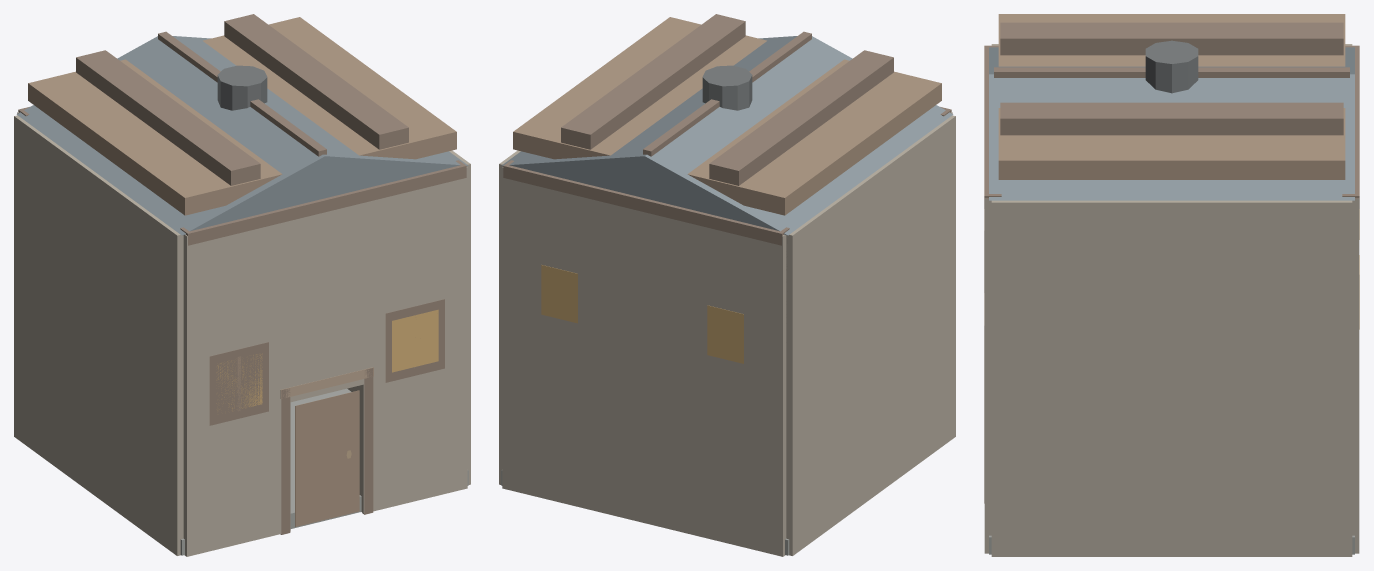
Rendered from gallows_watch_inhabited.glb.
3 renders of one model, left to right at view 1: azimuth 30°, elevation 25°; view 2: azimuth 150°, elevation 25°; view 3: azimuth 270°, elevation 25°, orthographic. The views are drawn at different scales.
Visible parts, largest first — view 1: gallows_watch_mat_01, gallows_watch_mat_04, gallows_watch_mat_02, gallows_watch_mat_07, gallows_watch_mat_06, gallows_watch_mat_10, gallows_watch_mat_00, gallows_watch_mat_03; view 2: gallows_watch_mat_01, gallows_watch_mat_04, gallows_watch_mat_02, gallows_watch_mat_07, gallows_watch_mat_06, gallows_watch_mat_10; view 3: gallows_watch_mat_01, gallows_watch_mat_02, gallows_watch_mat_04, gallows_watch_mat_07, gallows_watch_mat_10.
Part boxes in pixels (left/top/right/bottom): gallows_watch_mat_01: left=14, top=112, right=470, bottom=556; gallows_watch_mat_04: left=28, top=17, right=456, bottom=526; gallows_watch_mat_02: left=18, top=14, right=466, bottom=534; gallows_watch_mat_07: left=16, top=36, right=467, bottom=235; gallows_watch_mat_06: left=216, top=309, right=438, bottom=411; gallows_watch_mat_10: left=217, top=65, right=267, bottom=110; gallows_watch_mat_00: left=180, top=388, right=468, bottom=555; gallows_watch_mat_03: left=280, top=367, right=373, bottom=398; gallows_watch_mat_01: left=499, top=112, right=955, bottom=556; gallows_watch_mat_04: left=513, top=17, right=941, bottom=215; gallows_watch_mat_02: left=503, top=14, right=951, bottom=269; gallows_watch_mat_07: left=502, top=36, right=953, bottom=235; gallows_watch_mat_06: left=541, top=265, right=743, bottom=363; gallows_watch_mat_10: left=702, top=65, right=752, bottom=110; gallows_watch_mat_01: left=984, top=44, right=1359, bottom=556; gallows_watch_mat_02: left=984, top=22, right=1359, bottom=503; gallows_watch_mat_04: left=998, top=14, right=1345, bottom=179; gallows_watch_mat_07: left=989, top=47, right=1354, bottom=200; gallows_watch_mat_10: left=1145, top=40, right=1198, bottom=93.
Bounding box in the file's own units: 2.97 × 3.73 × 2.98.
